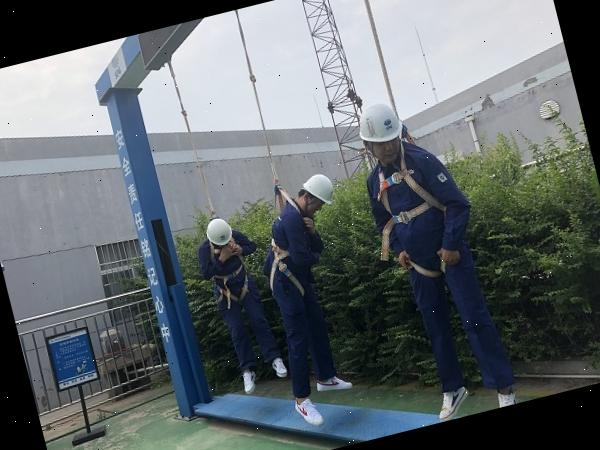helmet: (354, 99, 406, 148), (300, 168, 342, 210), (204, 216, 236, 248)
wear: (372, 152, 465, 274), (268, 212, 324, 295), (200, 239, 252, 297)
